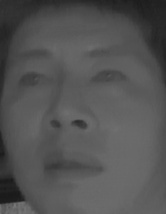eye: (89, 62, 129, 90), (17, 68, 55, 93)
mouth: (41, 147, 105, 185)
